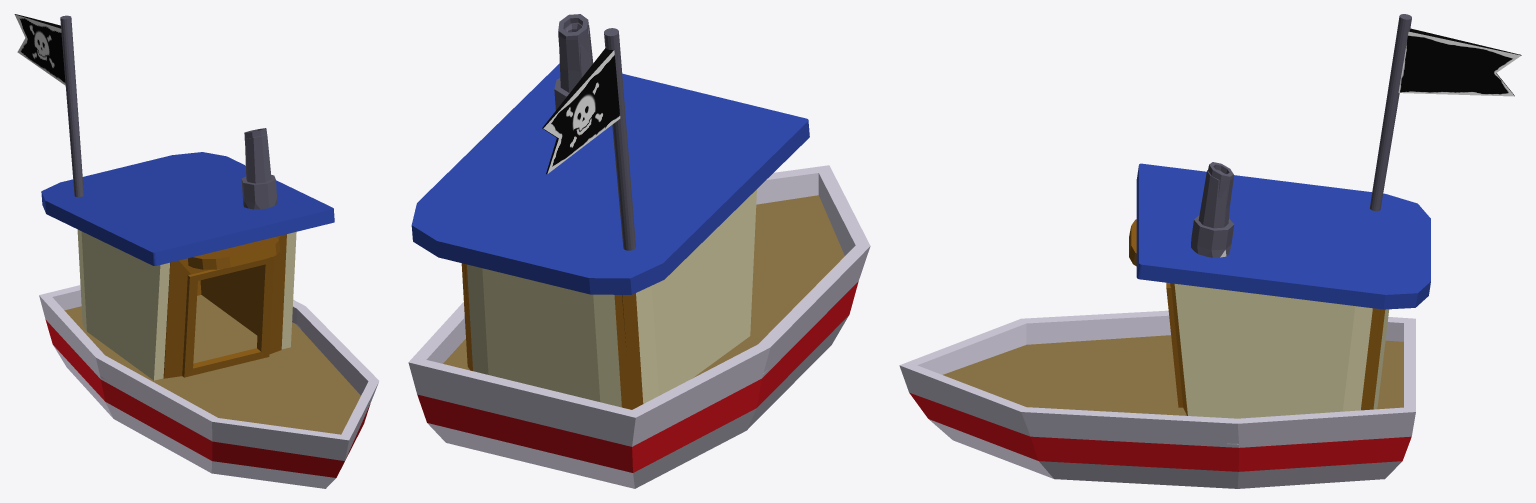
The model's file is Barquito3.fbx.
3 views of the same model, side by side, from view 1: azimuth 30°, elevation 25°; view 2: azimuth 150°, elevation 25°; view 3: azimuth 270°, elevation 25° (orthographic). The views are drawn at different scales.
Visible parts, largest first — view 1: Bote, Bandera; view 2: Bote, Bandera; view 3: Bote, Bandera.
Boxes of the visible parts, box(x1,y1,x2,y2) form: Bote: box(39, 15, 379, 488); Bandera: box(14, 14, 65, 85); Bote: box(408, 14, 870, 488); Bandera: box(542, 48, 620, 174); Bote: box(899, 14, 1430, 488); Bandera: box(1398, 28, 1521, 96).
Bounding box in the file's own units: 277 × 430 × 622.
Materials: 9 (1 with a texture image).
